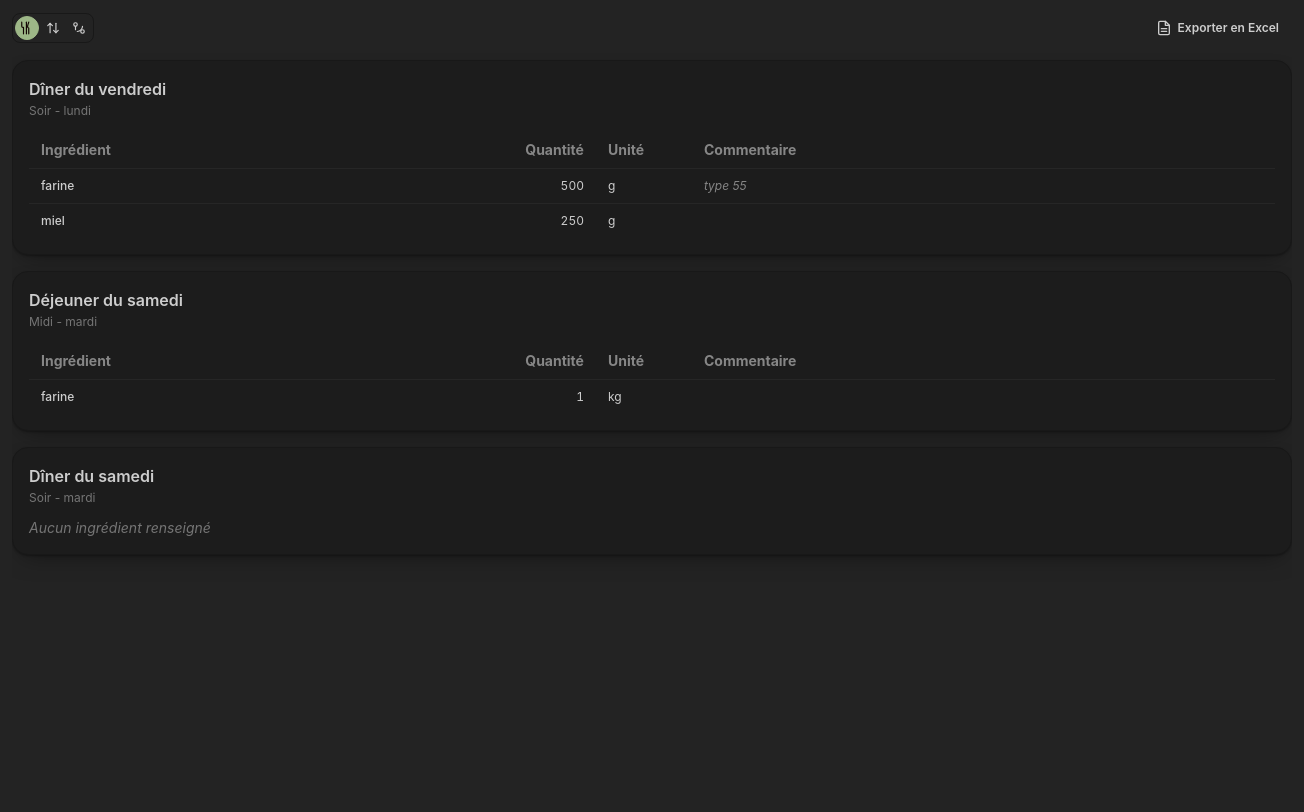
Test case: CoursesTab › bascule sur la vue a plat et affiche le repas de chaque ligne
Click the button named "Tous les ingrédients (A-Z)". click: (53, 28)
box: [41,16,65,40]
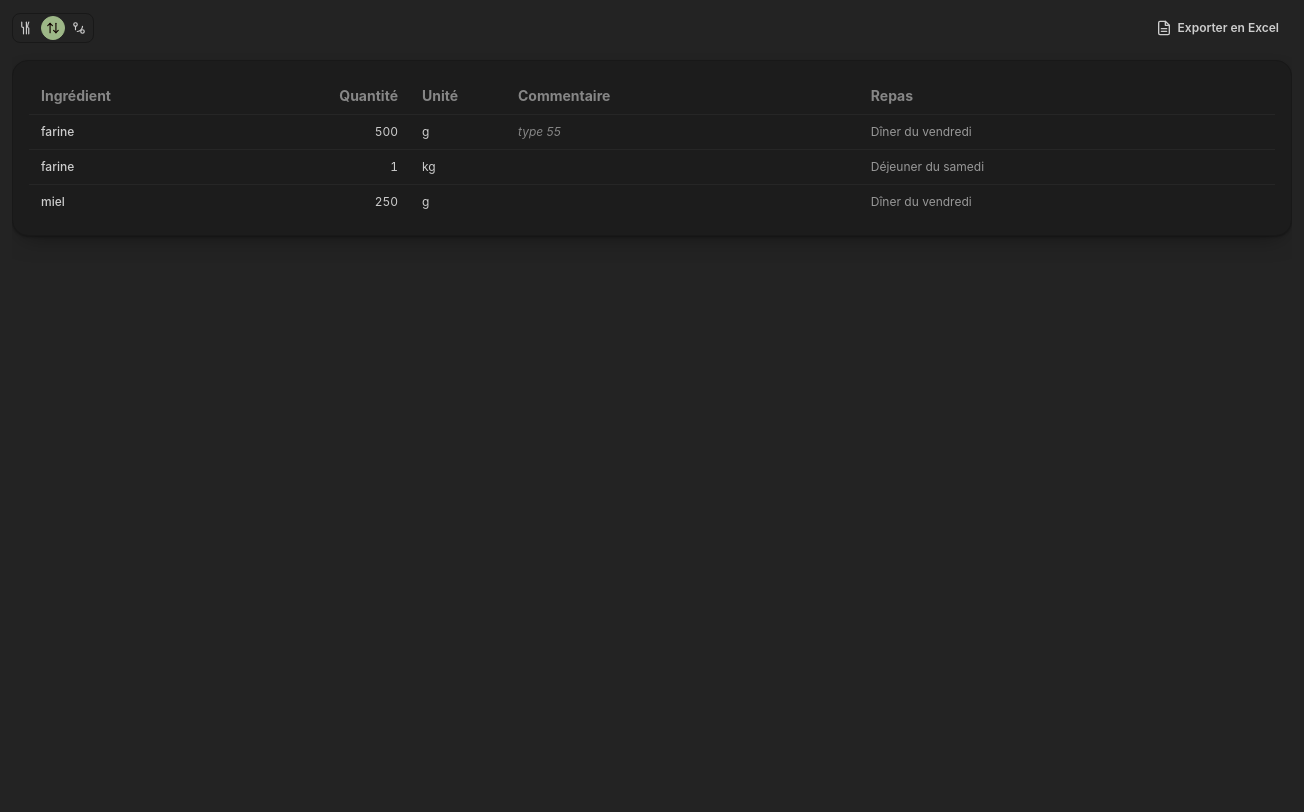
Check: the text "farine" is shown 2 times, box [29,115,314,150]; [29,150,314,185]
Check: the text "Aucun ingrédient renseigné" is gone
